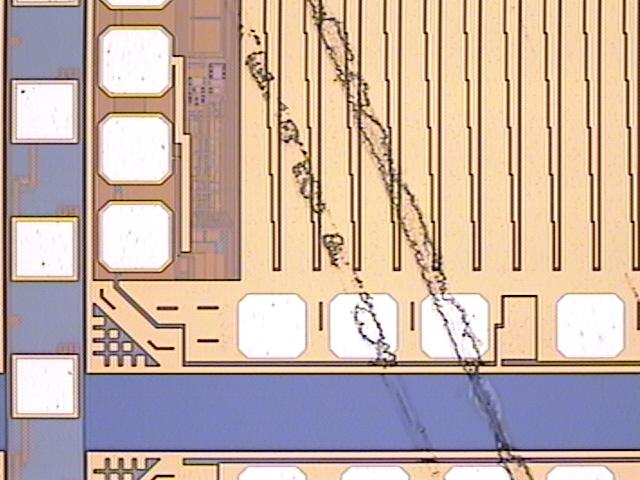SCRATCH: (222, 1, 540, 480)
